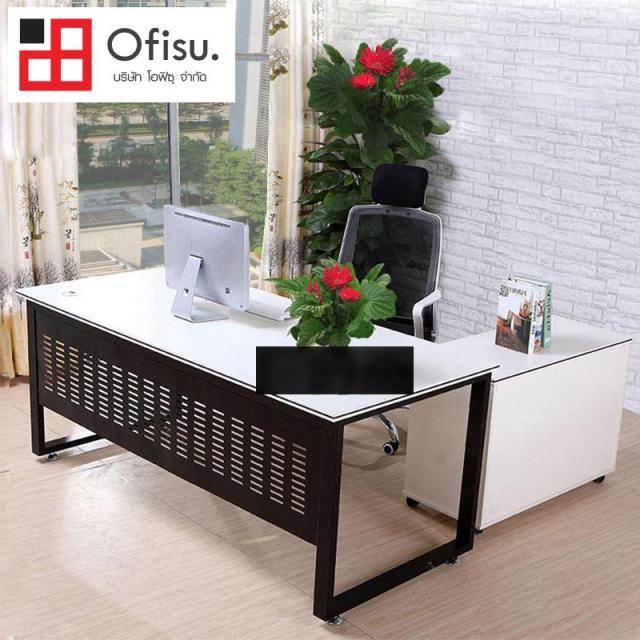table: (12, 247, 501, 489)
